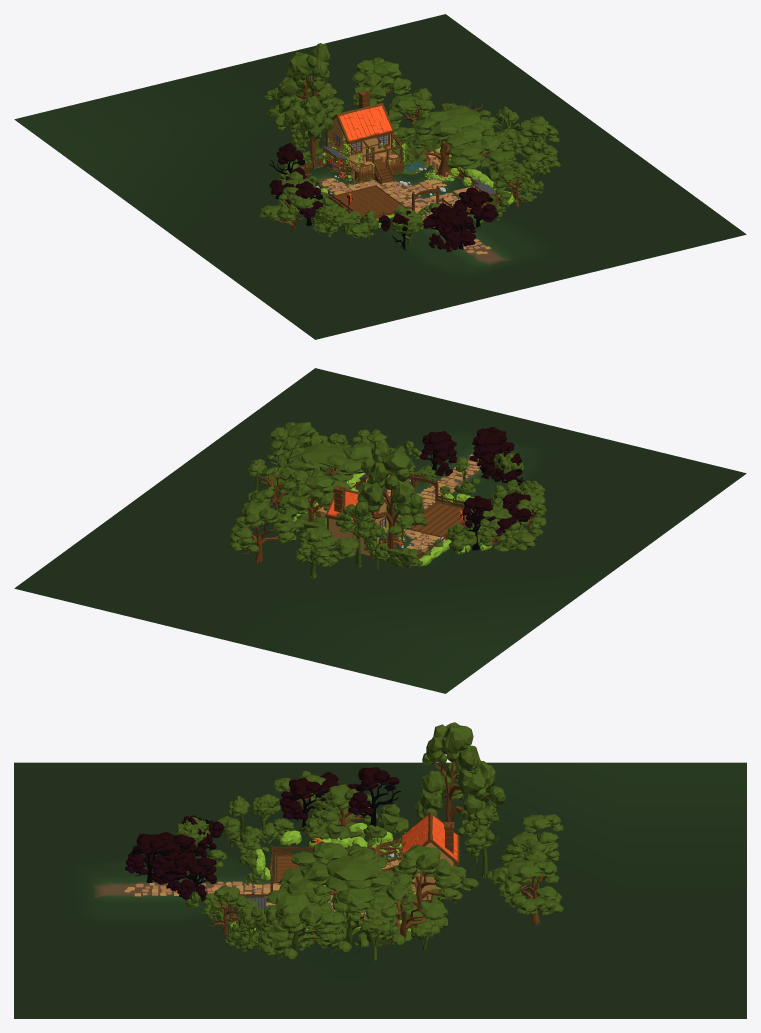
Rendered from pccc_garden_v001-transformed.glb.
The picture shows the model from 3 angles, top to bottom: view 1: azimuth 30°, elevation 25°; view 2: azimuth 150°, elevation 25°; view 3: azimuth 270°, elevation 25°; orthographic projection. The views are drawn at different scales.
Visible parts, largest first — view 1: MergedEnvironment; view 2: MergedEnvironment; view 3: MergedEnvironment.
Boxes of the visible parts, box(x1,y1,x2,y2) form: MergedEnvironment: box(14, 14, 746, 339); MergedEnvironment: box(14, 368, 746, 693); MergedEnvironment: box(14, 722, 746, 1018).
Bounding box in the file's own units: 17.38 × 4.65 × 21.01.
